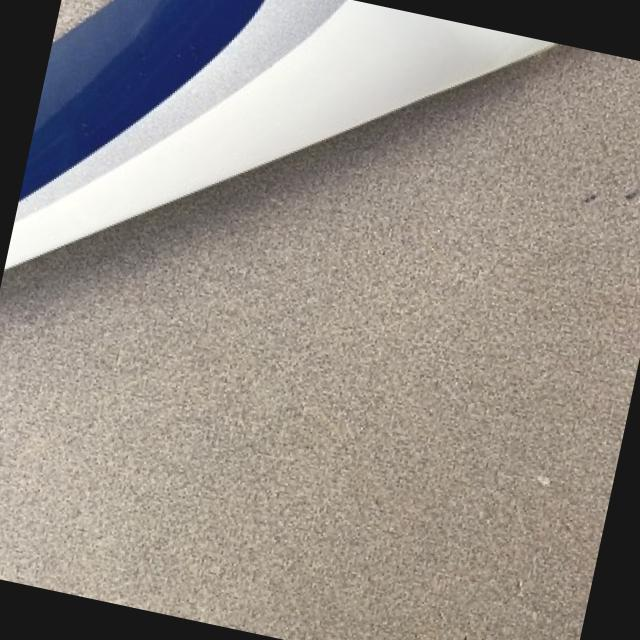healthy: (0, 42, 640, 640)
